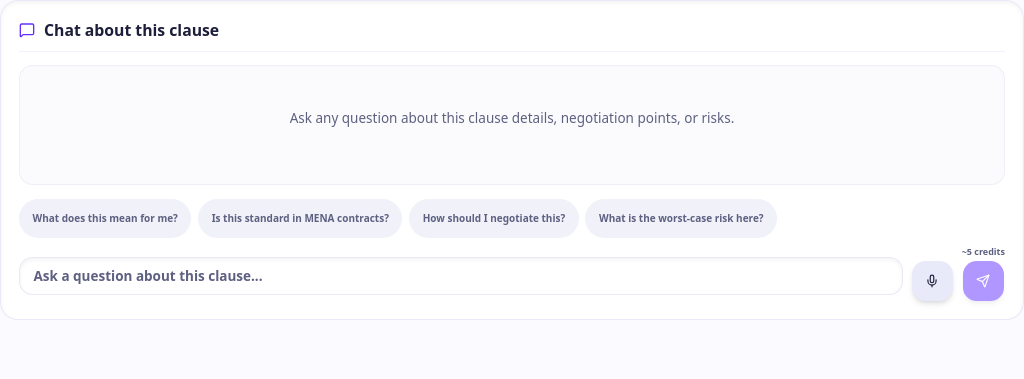
Scenario: ClauseChat Component › handles 402 Insufficient Credits with an inline warning and pricing link CTA
Step 1. Type "Will this fail?" into the text box with placeholder "Ask a question about this clause..." → [461, 276], box [19,257,903,295]
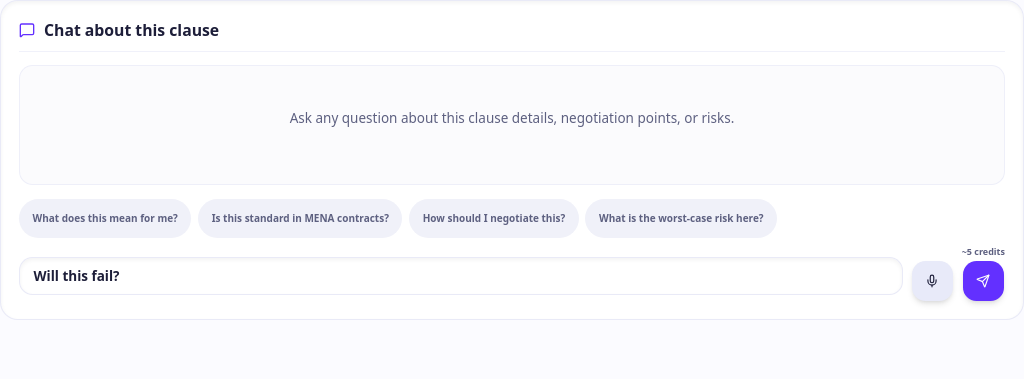
Step 2. Click the button named "Send" → [983, 281], box [963,261,1004,301]
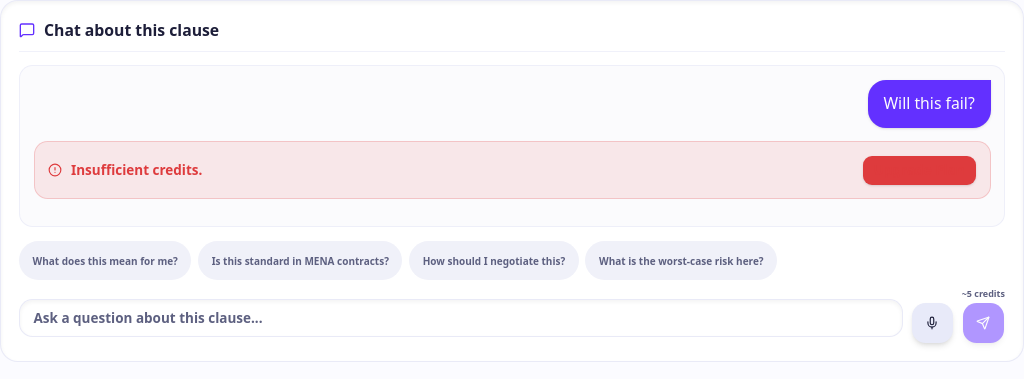
Expected: the text "Insufficient credits." is shown, [71,160,202,180]
Expected: the link "Upgrade Plan" is shown, [862,156,976,185]
